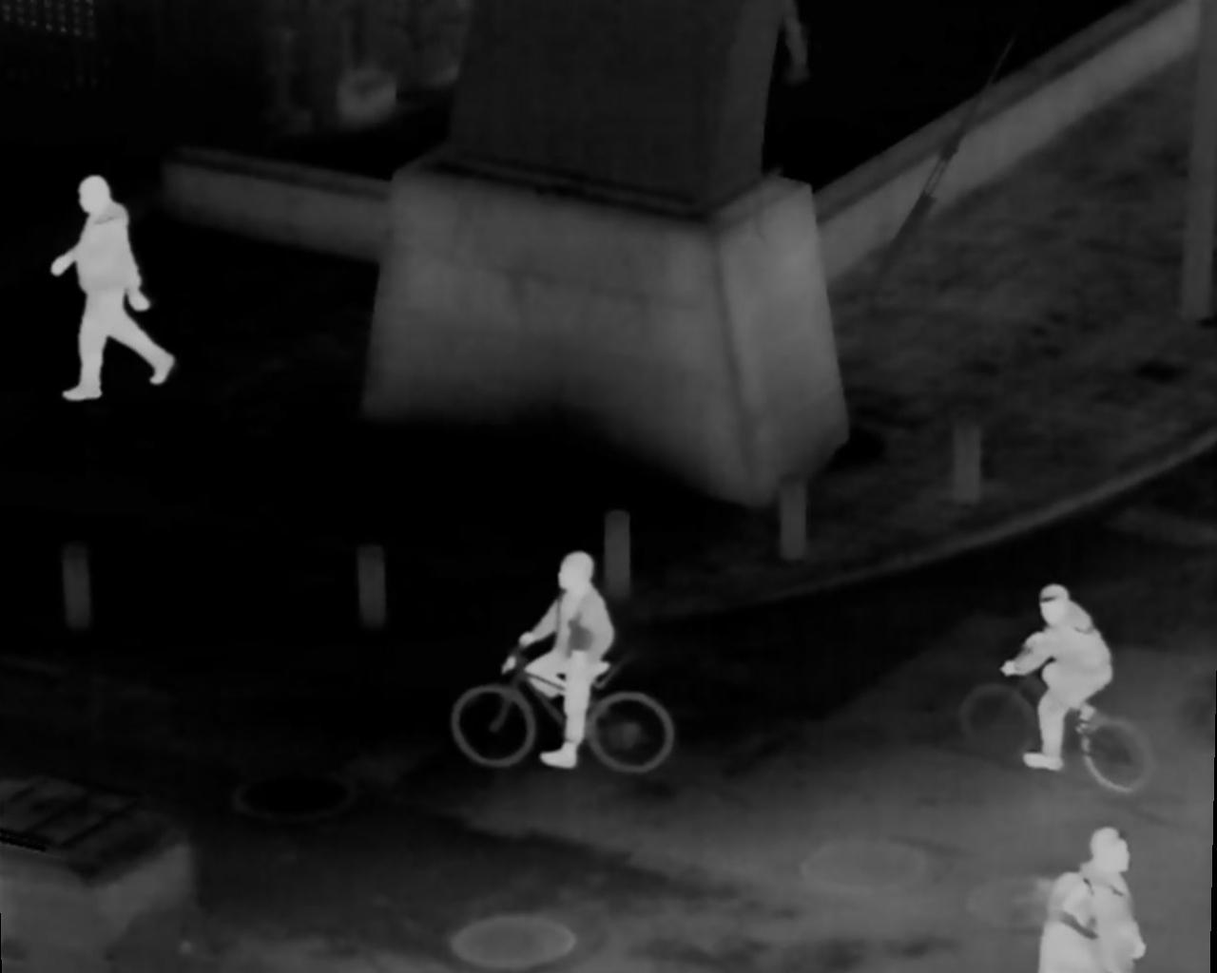person: (59, 175, 179, 408), (507, 540, 621, 779), (1006, 586, 1117, 770), (1059, 823, 1151, 973), (1039, 875, 1112, 973)
